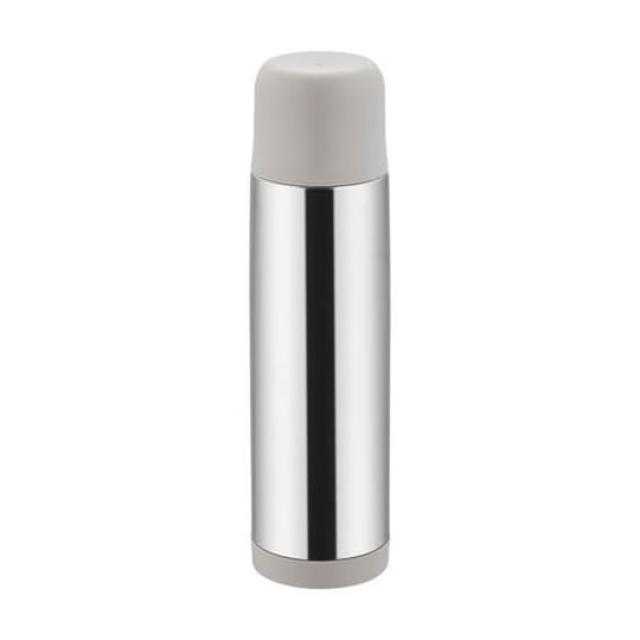Termos: (248, 50, 393, 590)
